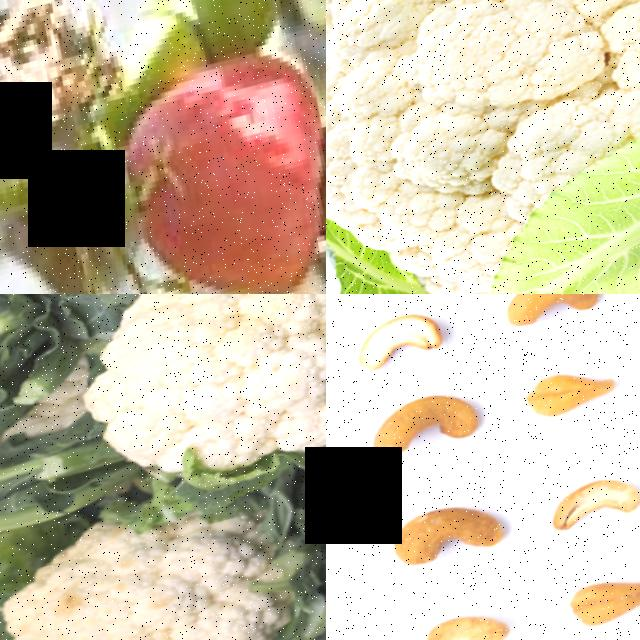cashew: (361, 469, 560, 595), (355, 370, 526, 482), (346, 294, 493, 392), (514, 337, 640, 443), (544, 448, 640, 566), (536, 539, 640, 640), (492, 294, 640, 357), (402, 591, 558, 640), (293, 85, 326, 281)
cauliflower: (326, 0, 640, 294), (31, 294, 326, 534), (0, 454, 326, 640)
